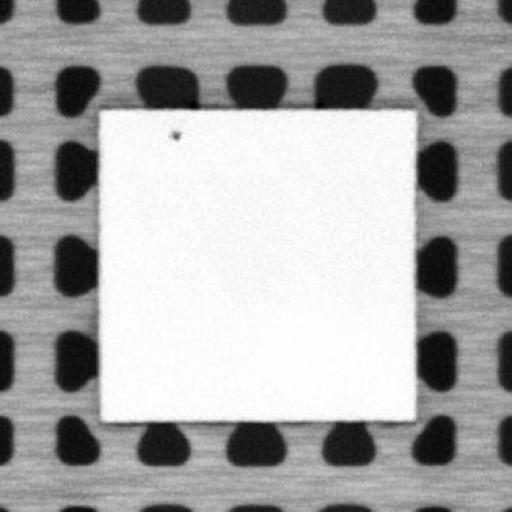DIE_INK: (165, 126, 182, 140)
